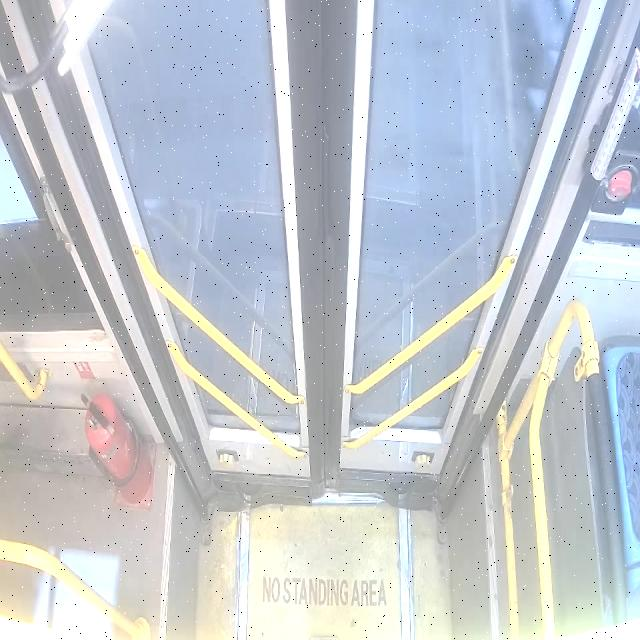close: (74, 3, 576, 489)
